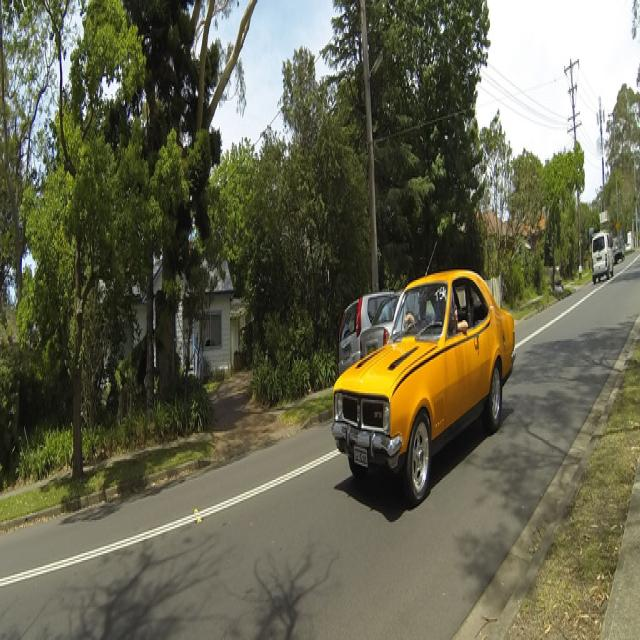car: (326, 251, 513, 499), (592, 224, 615, 280), (610, 230, 624, 259), (625, 235, 634, 254)
